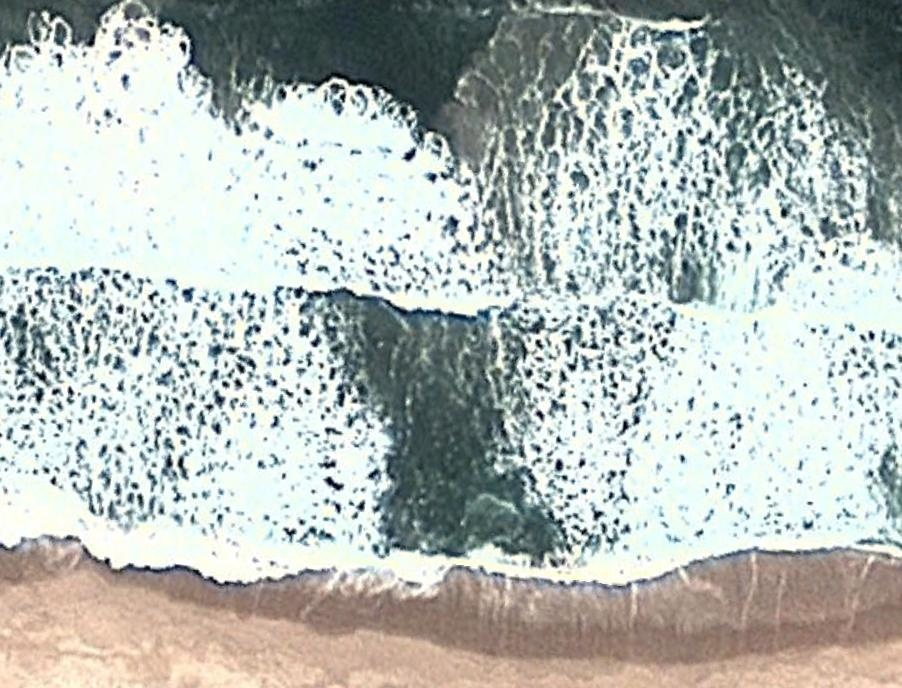rip_current: (294, 131, 591, 570)
